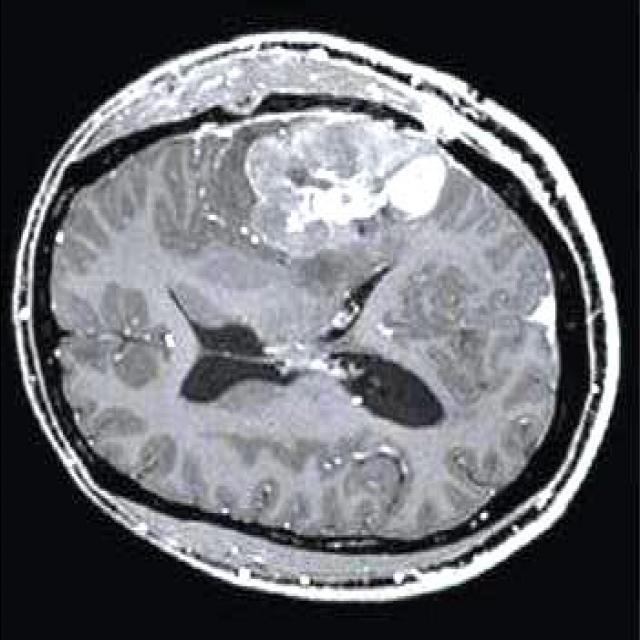tumor: (235, 112, 441, 259)
